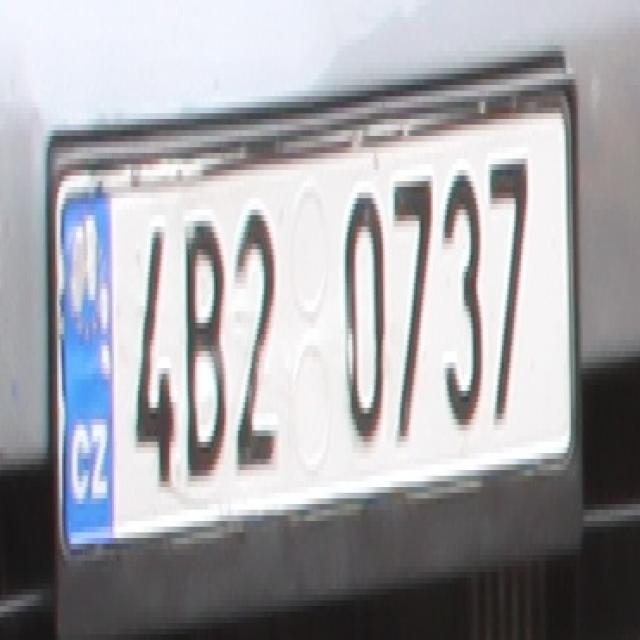0: (338, 187, 385, 430)
2: (233, 198, 278, 487)
3: (439, 164, 486, 436)
4: (131, 215, 176, 487)
7: (484, 147, 530, 436), (392, 170, 434, 442)
B: (181, 215, 228, 487)
